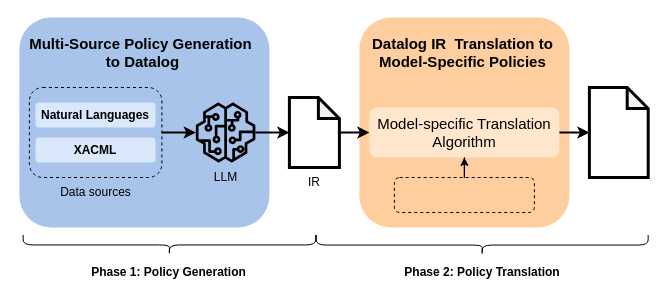
Image size: 667x304. Some labels were removed from this diagram. The shapes that lost their labels are listed below. From the top down, each one's centre as x and y in pixels, then its label:
At point 313,132: "Datalog".
At point 618,132: "Model-Specific Policies".
At point 463,194: "One Target ReBAC Model Spec".
